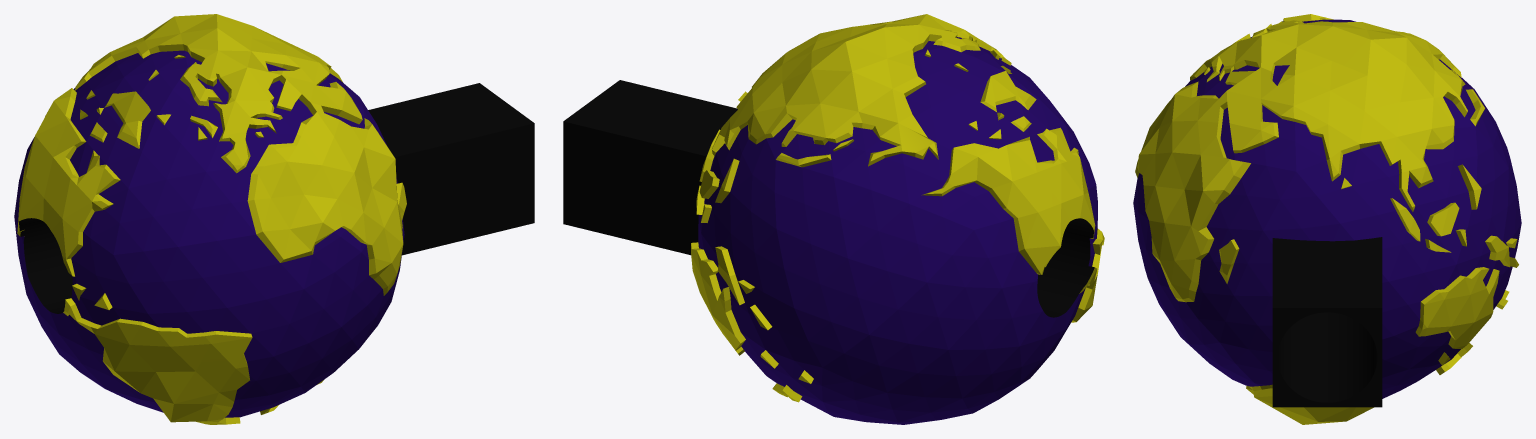
Rendered from earthWork5.glb.
The picture shows the model from 3 angles, left to right: view 1: azimuth 30°, elevation 25°; view 2: azimuth 150°, elevation 25°; view 3: azimuth 270°, elevation 25°; orthographic projection. The views are drawn at different scales.
Parts seen in each view (by area): view 1: earth4, Cube; view 2: earth4, Cube; view 3: earth4, Cube.
Boxes of the visible parts, x1,y1,x2,y2 form: earth4: (14,14,406,424); Cube: (368,83,534,255); earth4: (691,14,1104,424); Cube: (563,80,737,255); earth4: (1133,14,1521,424); Cube: (1272,237,1382,407).
Size of the model in its own units: 119 by 90.26 by 85.11.
